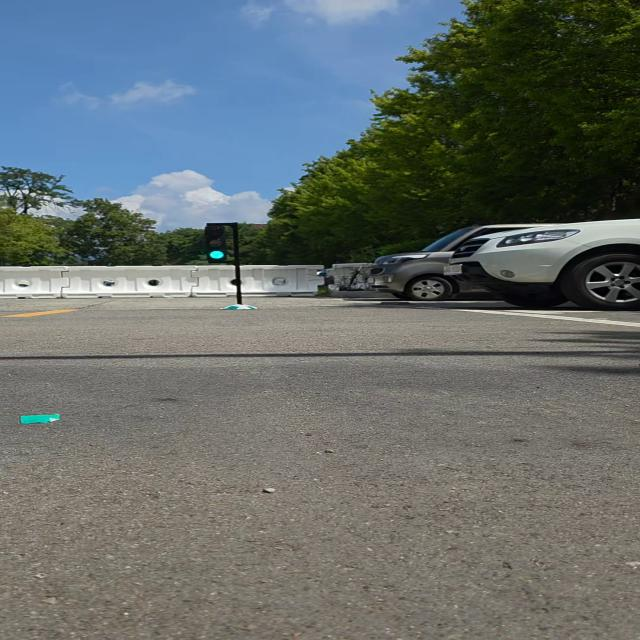green: (200, 219, 237, 266)
